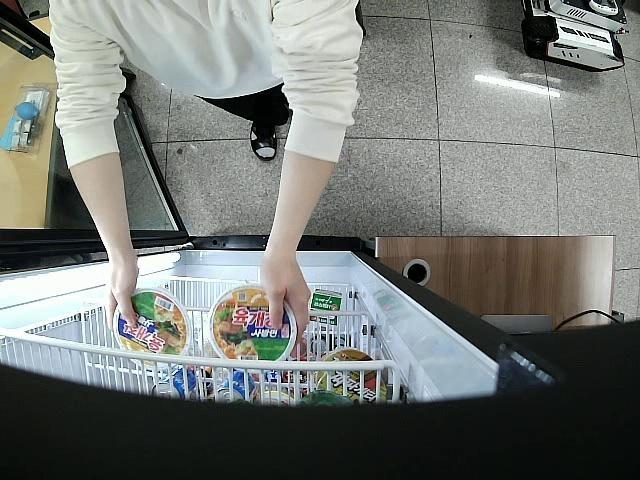09_yukGaeJang: (210, 284, 298, 370), (113, 287, 192, 370)
